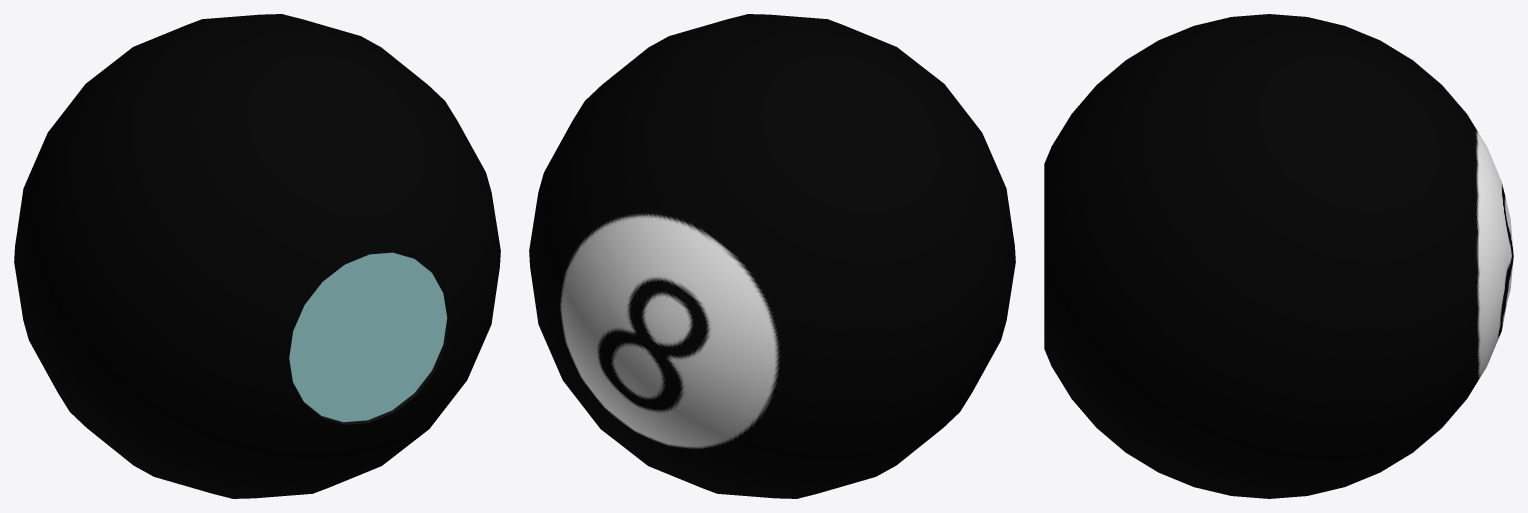
File: hw_pop_8ball.glb
3 renders of one model, left to right at view 1: azimuth 30°, elevation 25°; view 2: azimuth 150°, elevation 25°; view 3: azimuth 270°, elevation 25°, orthographic.
Parts seen in each view (by area): view 1: Ball_lambert1_0; view 2: Ball_lambert1_0; view 3: Ball_lambert1_0.
Part boxes in pixels (bbox=[...]): Ball_lambert1_0: bbox=[14, 14, 500, 498]; Ball_lambert1_0: bbox=[529, 14, 1015, 498]; Ball_lambert1_0: bbox=[1044, 14, 1513, 498].
Size of the model in its own units: 2 by 2 by 1.92.
1 material, 1 textured.
